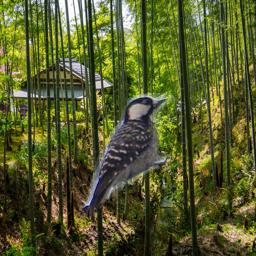Woodpecker: (74, 89, 179, 224)
